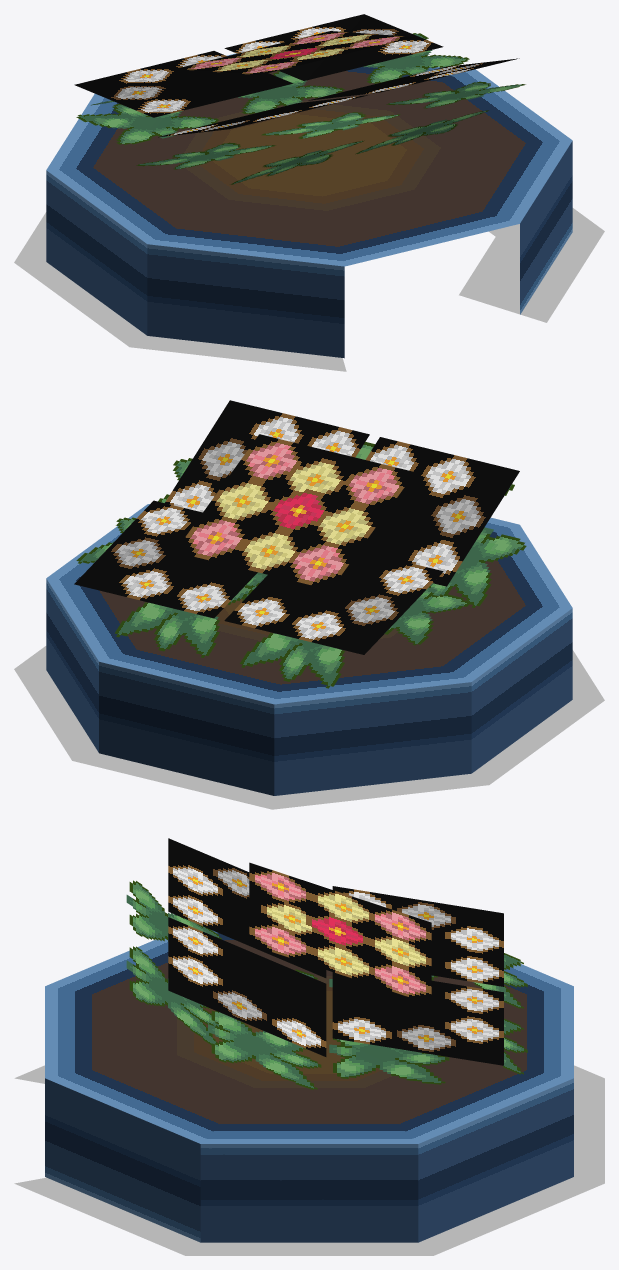
The picture shows the model from 3 angles, top to bottom: view 1: azimuth 30°, elevation 25°; view 2: azimuth 150°, elevation 25°; view 3: azimuth 270°, elevation 25°; orthographic projection. The views are drawn at different scales.
Parts seen in each view (by area): view 1: polygon0, polygon3, polygon1, polygon2, polygon4; view 2: polygon0, polygon3, polygon4, polygon1, polygon2; view 3: polygon0, polygon3, polygon4, polygon2, polygon1.
Part boxes in pixels (<box>): polygon0: <box>46,53,572,358</box>; polygon3: <box>74,14,519,137</box>; polygon1: <box>14,208,604,371</box>; polygon2: <box>76,33,525,184</box>; polygon4: <box>176,31,414,75</box>; polygon0: <box>46,504,572,795</box>; polygon3: <box>74,400,519,654</box>; polygon4: <box>175,434,415,589</box>; polygon1: <box>14,646,604,809</box>; polygon2: <box>76,442,526,688</box>; polygon0: <box>45,930,573,1242</box>; polygon3: <box>168,838,503,1065</box>; polygon4: <box>249,862,431,1004</box>; polygon2: <box>126,880,527,1089</box>; polygon1: <box>14,1065,604,1255</box>.
Bounding box in the file's own units: 9.5 × 4.03 × 9.5.
